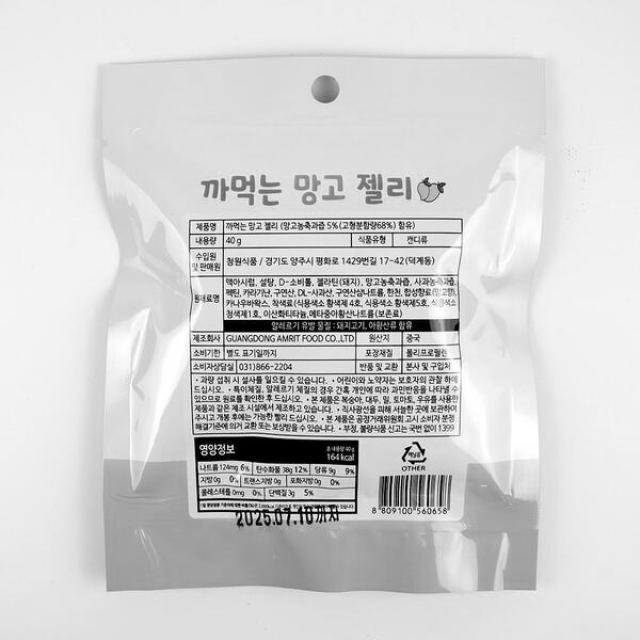Nutrition Label: (192, 435, 367, 521)
